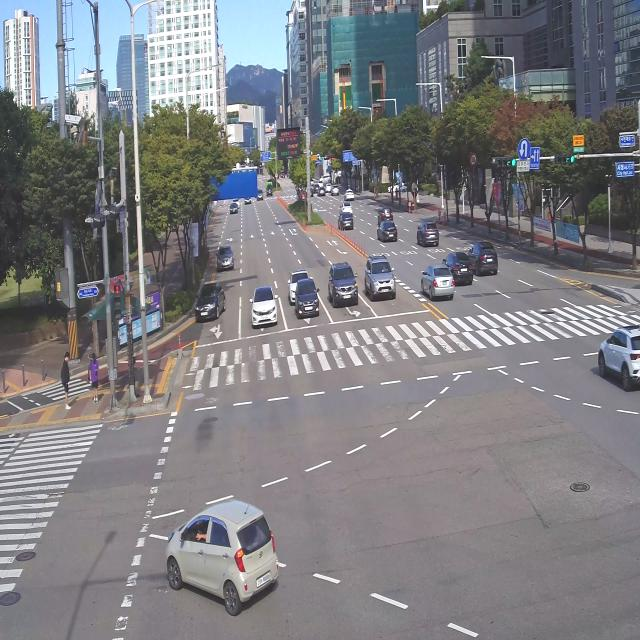Car: (149, 487, 287, 624), (590, 293, 640, 398), (247, 274, 282, 342), (322, 253, 360, 315), (363, 249, 398, 310), (190, 279, 230, 328), (414, 258, 456, 302), (440, 245, 475, 292), (292, 278, 322, 325), (467, 237, 501, 275), (287, 265, 310, 305), (414, 219, 439, 252), (214, 243, 237, 274), (376, 218, 398, 244), (336, 211, 356, 234), (338, 200, 354, 216), (386, 179, 404, 193), (399, 177, 417, 191), (343, 185, 355, 202), (227, 203, 238, 216), (317, 184, 326, 198), (330, 184, 340, 196), (256, 188, 264, 202), (325, 181, 332, 193), (232, 198, 240, 208), (243, 197, 253, 205), (308, 185, 313, 198)
Truck: (264, 179, 276, 199)
